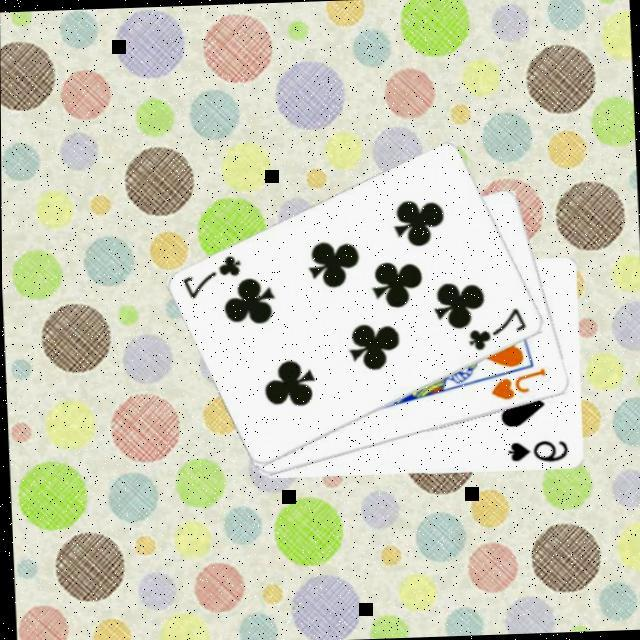6S: (504, 435, 571, 464)
7C: (178, 249, 246, 301), (464, 302, 530, 352)
JH: (487, 363, 550, 401)
